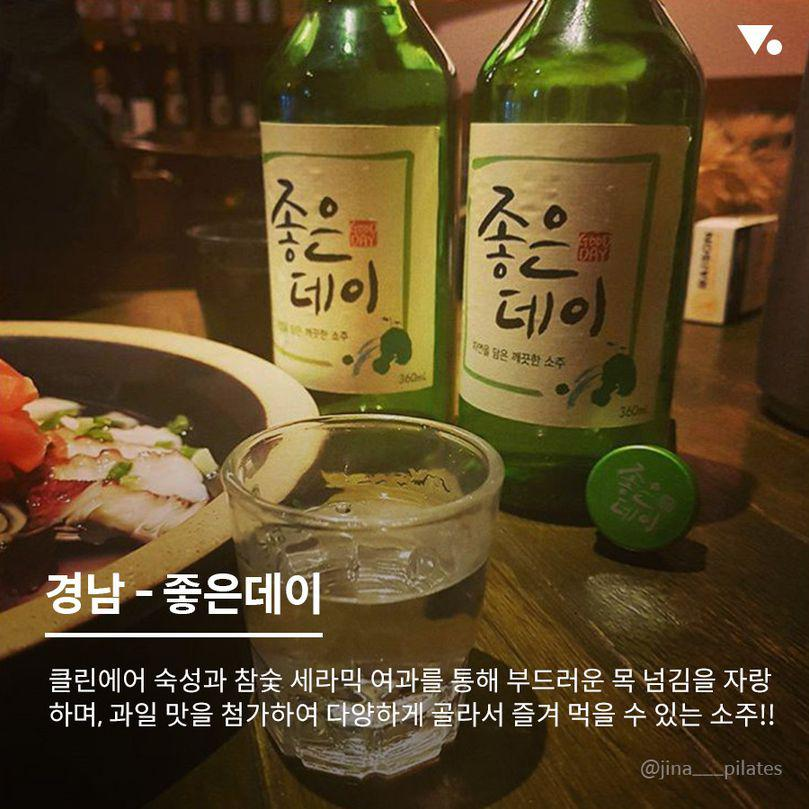soju: (237, 9, 705, 502)
